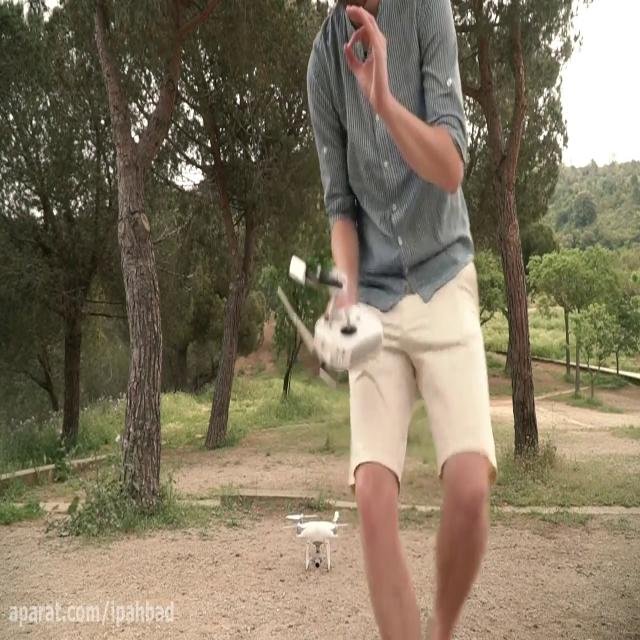drone: (285, 508, 350, 572)
